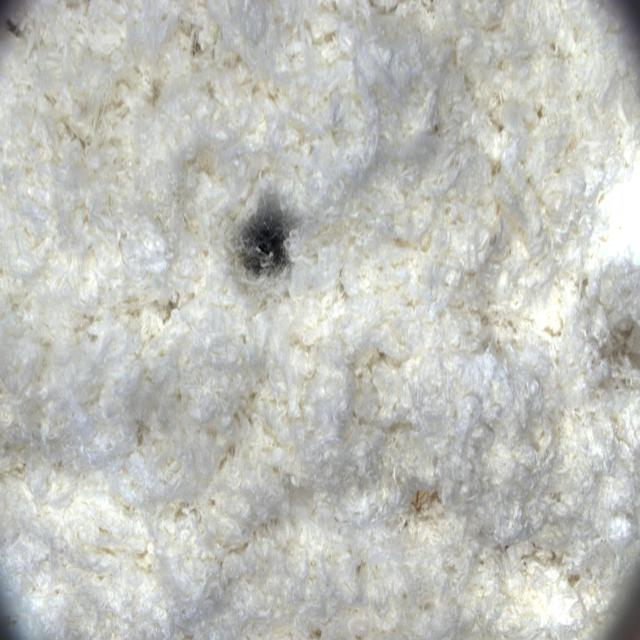dust: (210, 151, 331, 339)
